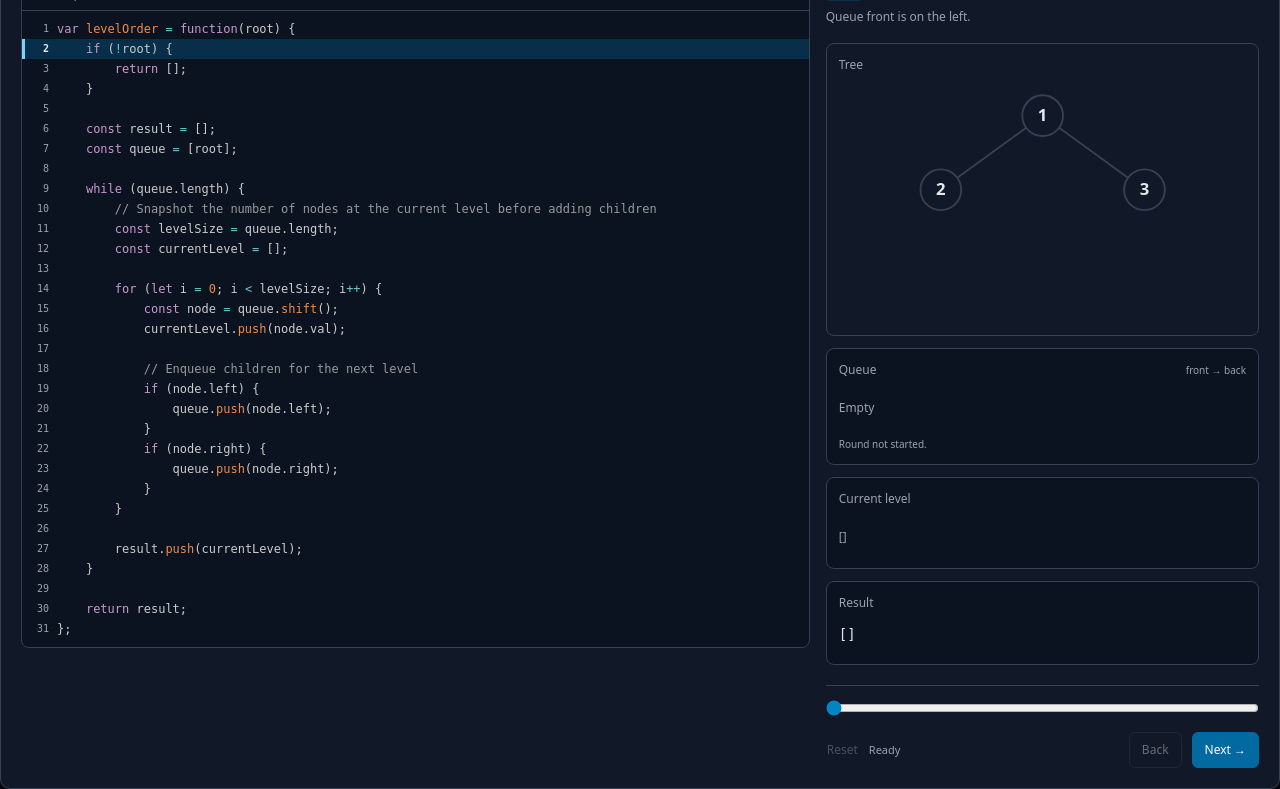
it: interactive traversal walkthroughs › renders a missing child without changing the queue, supports Back and Next, and resets
(page scrolled)
Set the slider named "Level order traversal step" to "11" at (1089, 708), box [826, 700, 1259, 716]
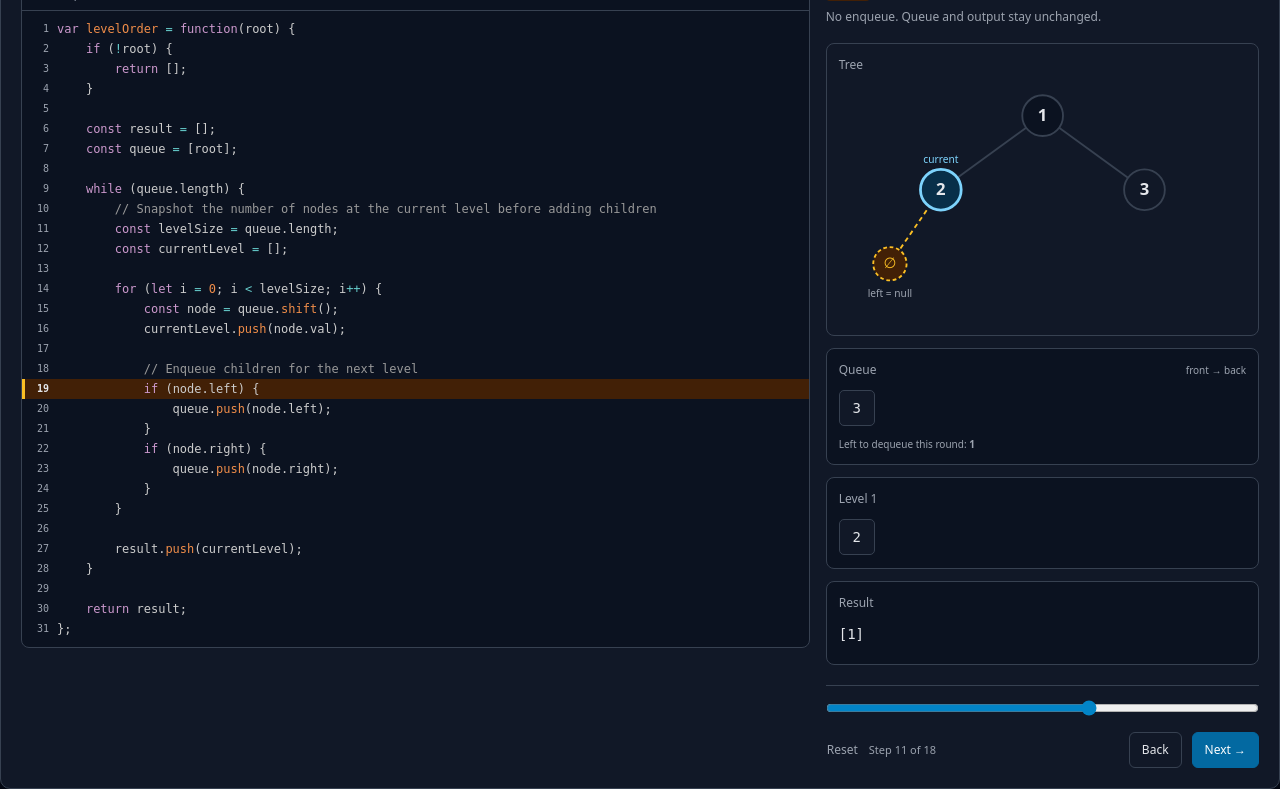
Click the button "Back".
click(1155, 750)  # box [1129, 732, 1182, 768]
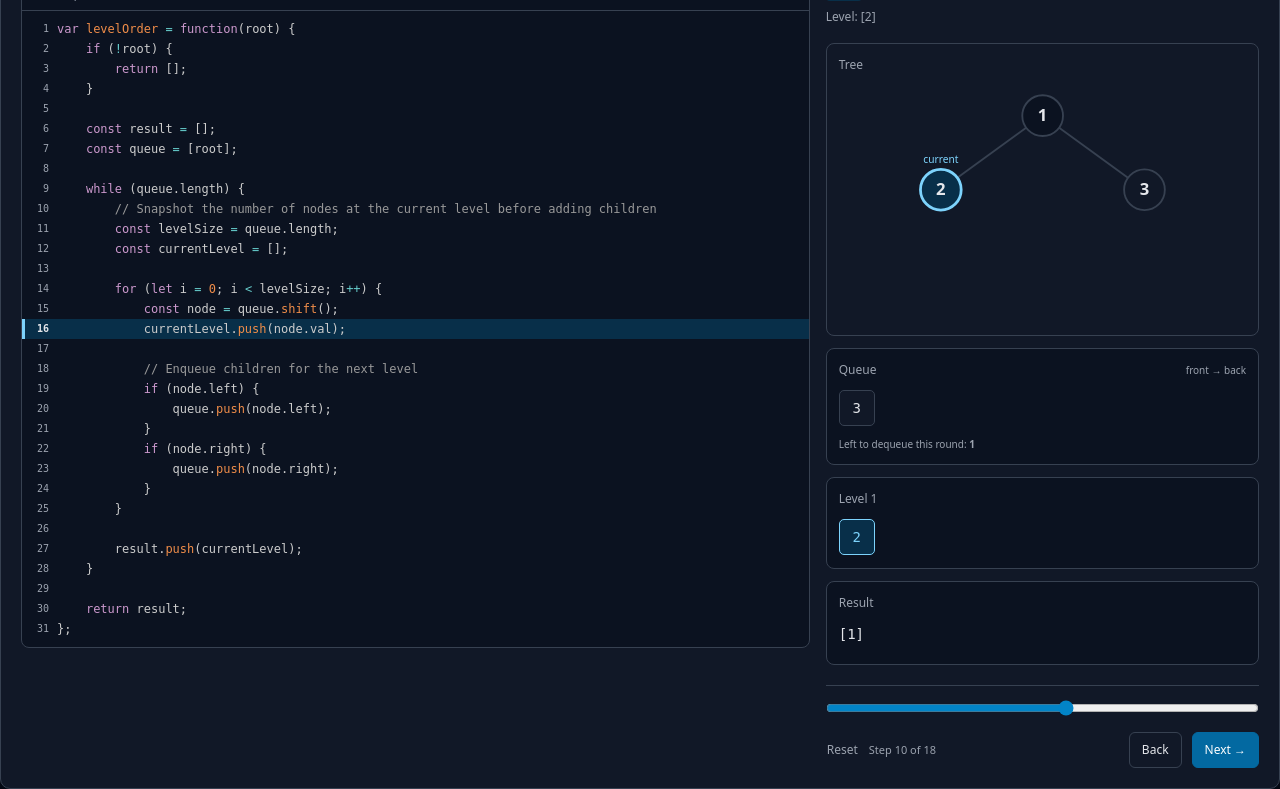
Click the button "Next →".
click(1225, 750)  # box [1192, 732, 1259, 768]
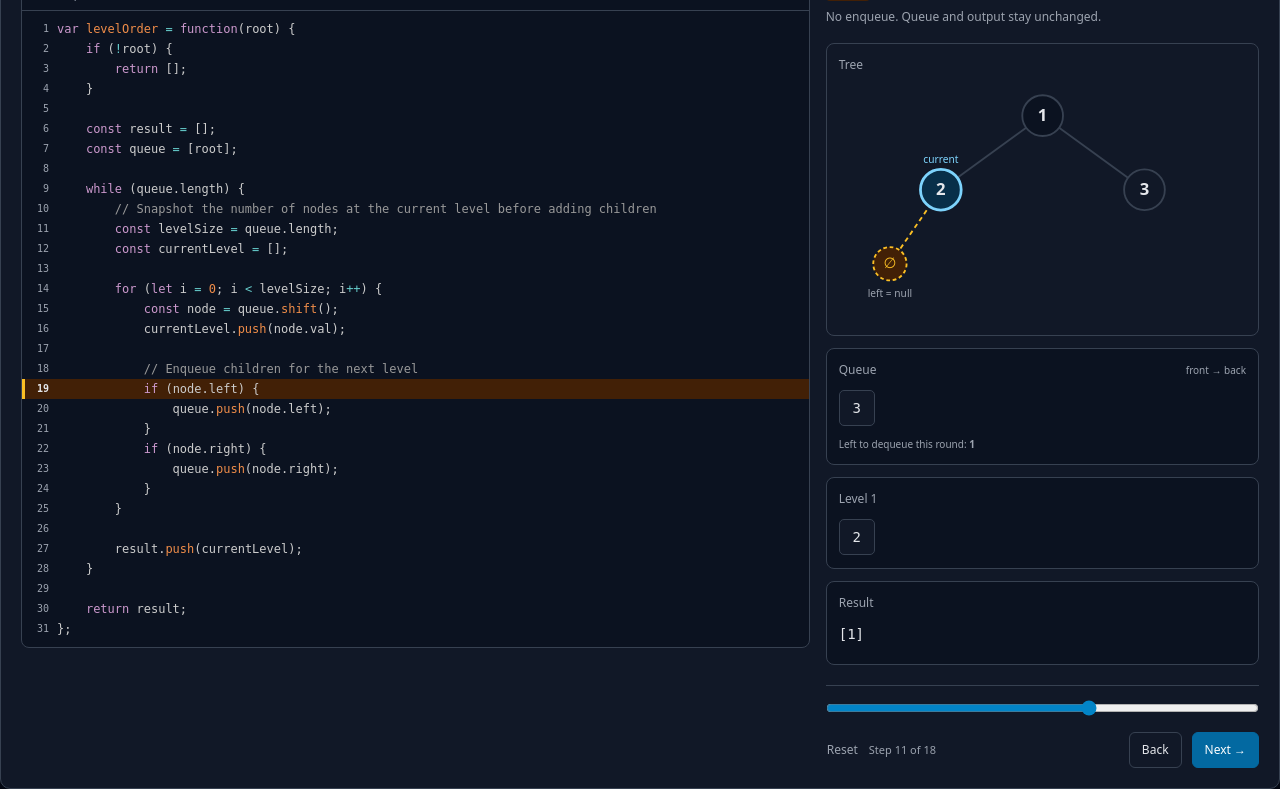
Click the button "Reset".
click(842, 750)  # box [826, 732, 859, 768]
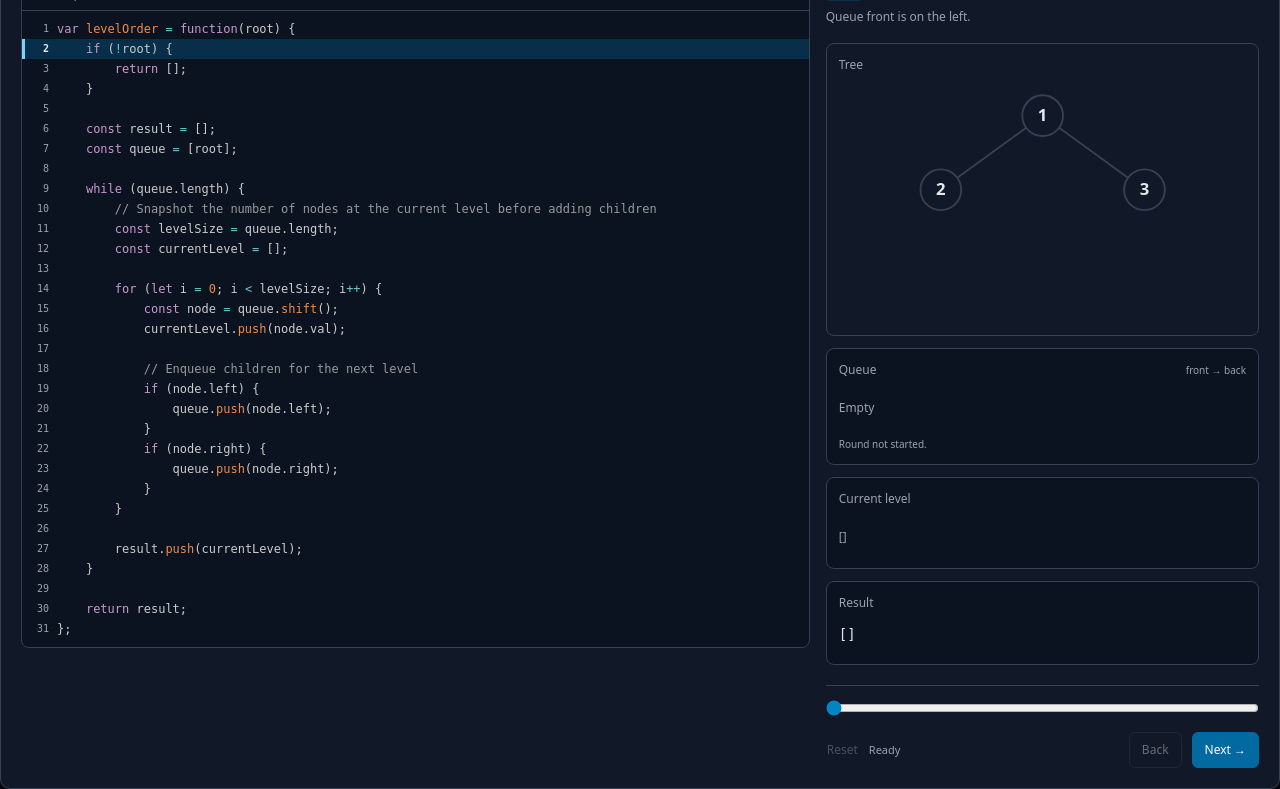
Expected: the slider named "Level order traversal step" holds "0", [826, 700, 1259, 716]
Expected: the button "Back" is disabled, [1129, 732, 1182, 768]
